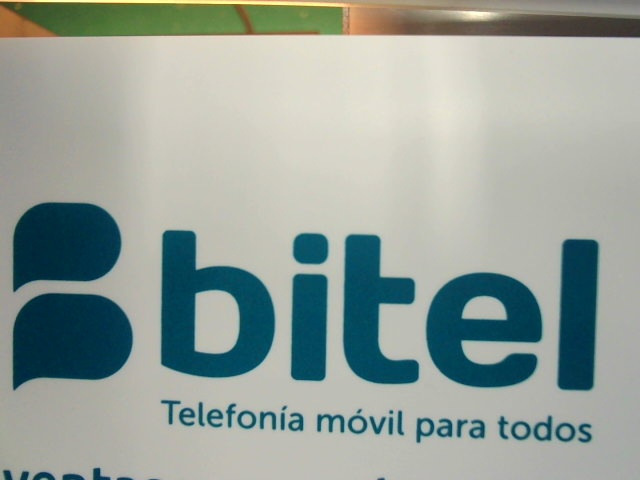BE_bitel: (5, 193, 604, 395)
